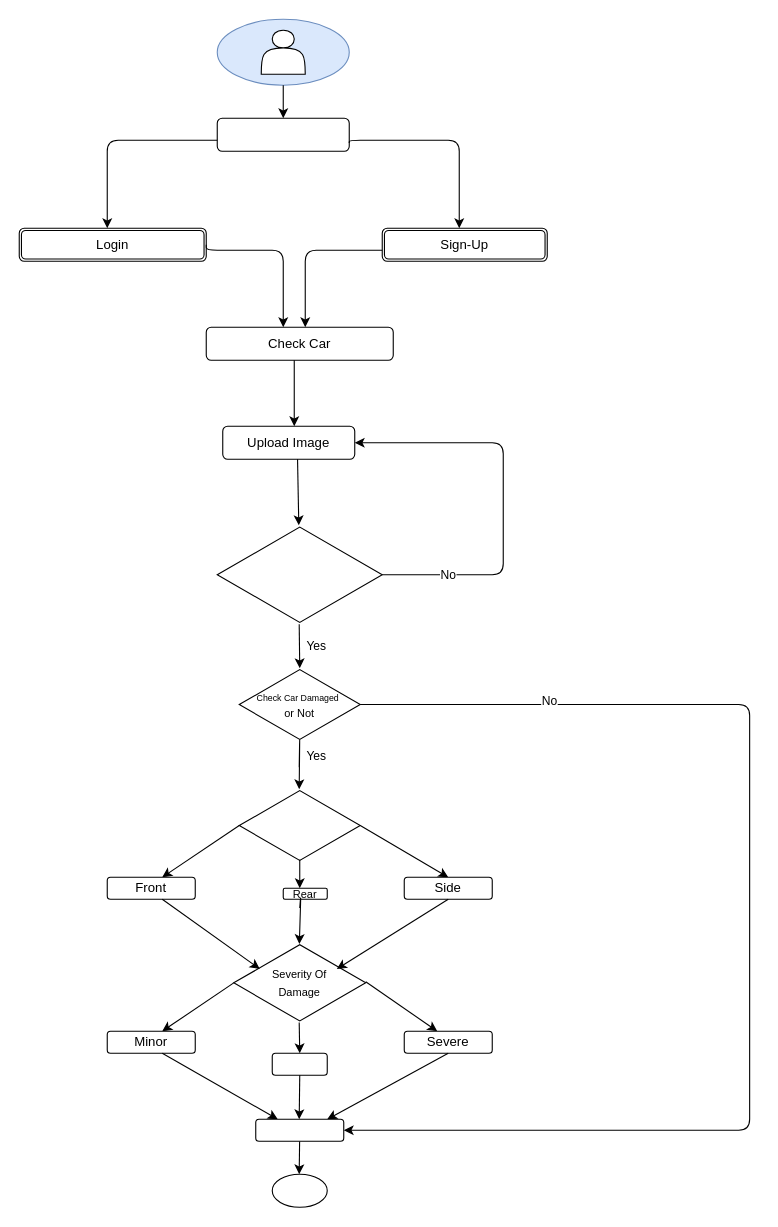
This 778x1227 diagram has some shape labels left out. The centre of each missing label's shape, as x and y in pixels:
"Checks Car or Not" goes at pixel 299 574.
"Home" goes at pixel 282 134.
"Location Of Damage" goes at pixel 299 825.
"Moderate" goes at pixel 299 1063.
"P rint Results" goes at pixel 299 1129.
